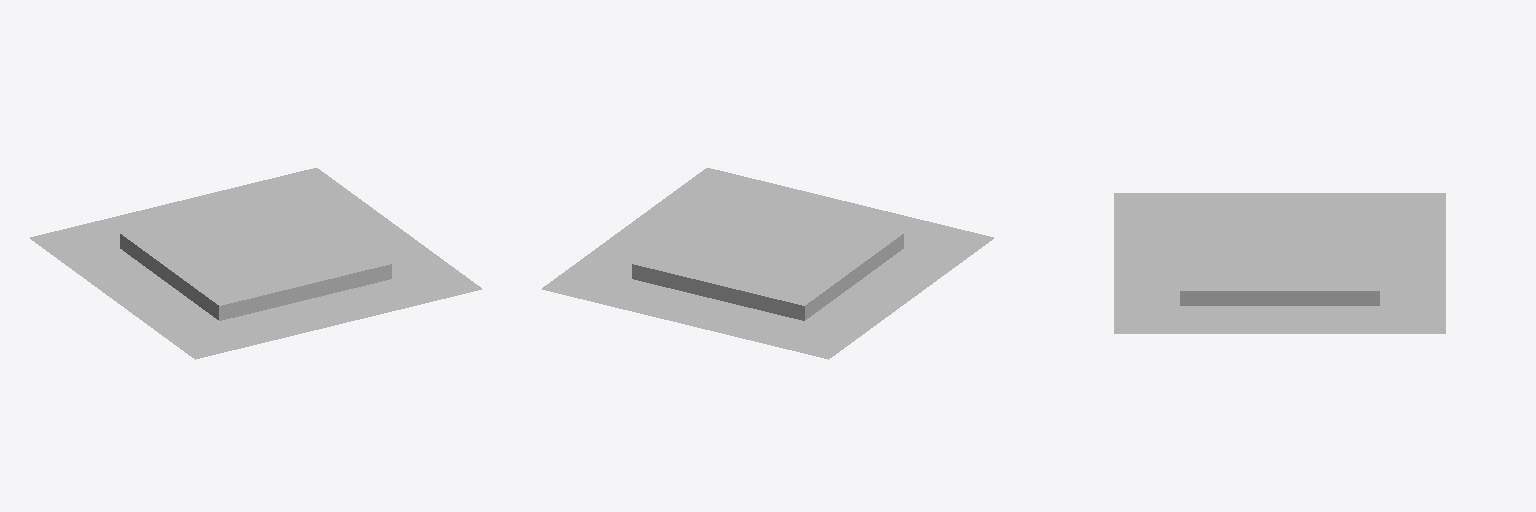
The model's file is Techo.obj.
The picture shows the model from 3 angles: view 1: azimuth 30°, elevation 25°; view 2: azimuth 150°, elevation 25°; view 3: azimuth 270°, elevation 25°; orthographic projection.
Visible parts, largest first — view 1: techo_4, techo_3, techo_1, techo_2; view 2: techo_1, techo_2, techo_4, techo_3; view 3: techo_2, techo_3, techo_4, techo_1.
Boxes of the visible parts, x1,y1,x2,y2 form: techo_4: [113, 249, 338, 359]; techo_3: [256, 227, 481, 323]; techo_1: [30, 203, 255, 298]; techo_2: [173, 168, 399, 247]; techo_1: [685, 249, 910, 359]; techo_2: [542, 227, 767, 323]; techo_4: [768, 203, 993, 298]; techo_3: [624, 168, 850, 247]; techo_2: [1280, 248, 1445, 333]; techo_3: [1114, 248, 1279, 333]; techo_4: [1114, 193, 1279, 263]; techo_1: [1280, 193, 1445, 263].
Bounding box in the file's own units: 197 × 9.84 × 197.